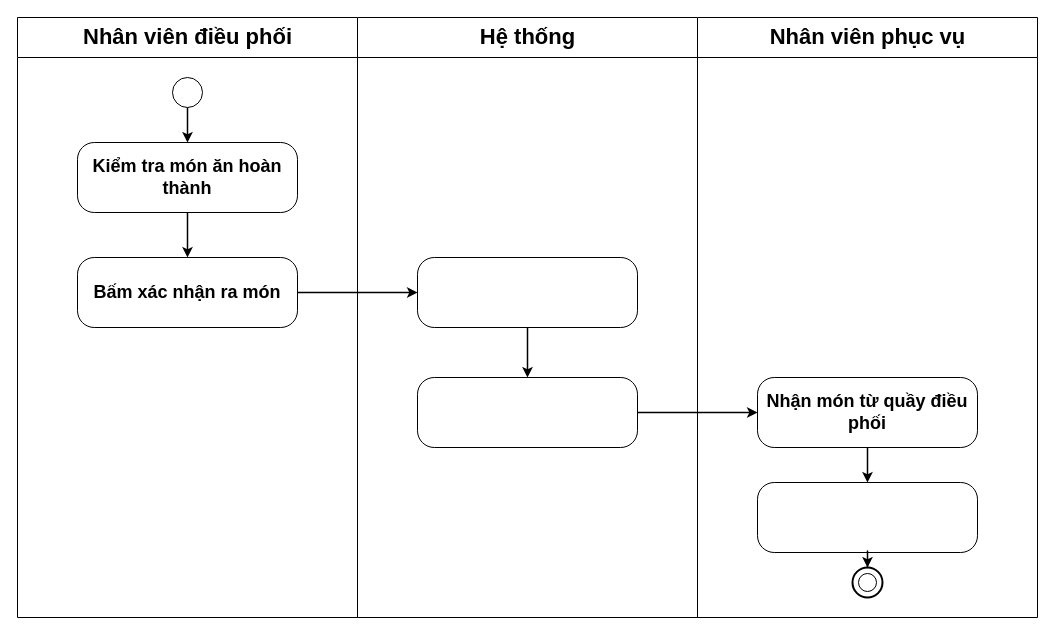
Image size: 1055x635. Some labels were removed from this diagram. The shapes that lost their labels are listed below. From the top down, each one's centre as x and y in pixels, then its label:
At pixel 527 292: "Cập nhật trạng thái món vào CSDL".
At pixel 527 412: "Thông báo món sẵn sàng phục vụ".
At pixel 867 517: "Phục vụ món ăn tới bàn khách".
